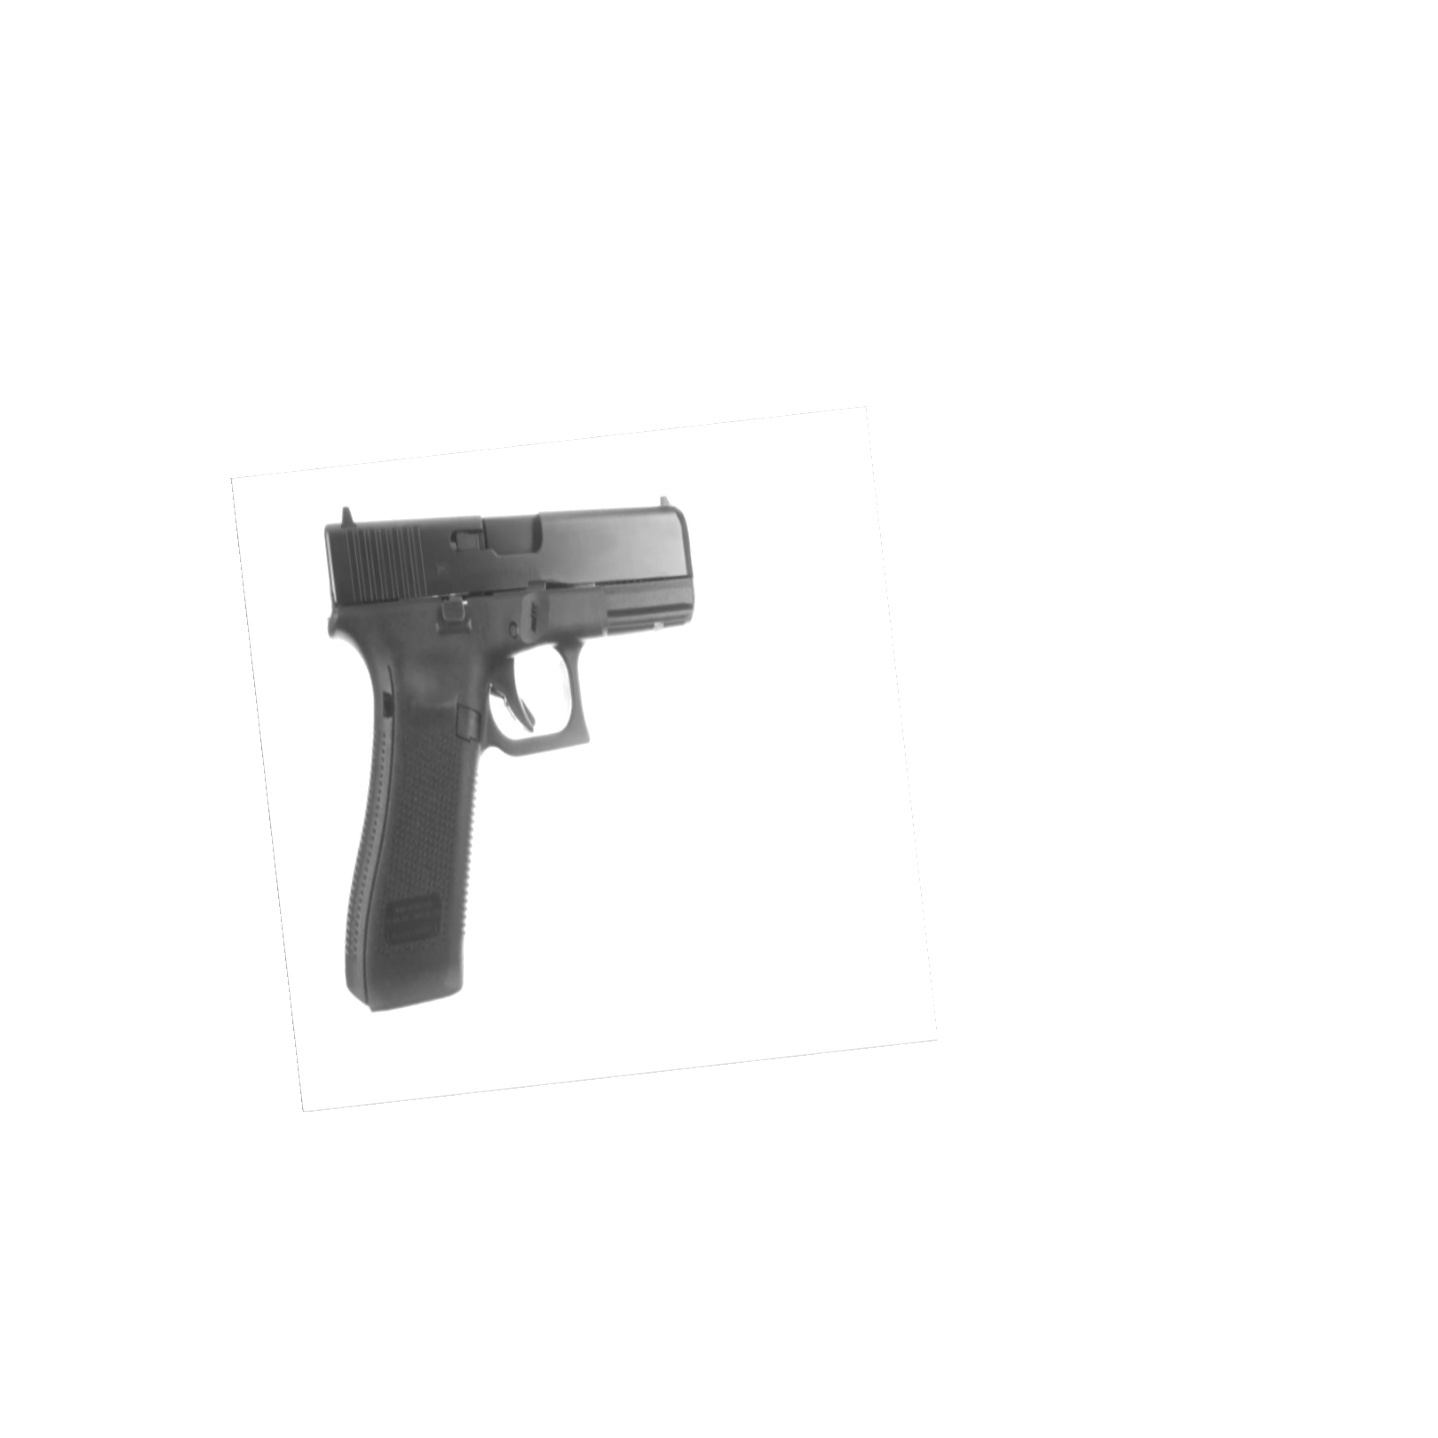gun: (313, 494, 705, 1019)
